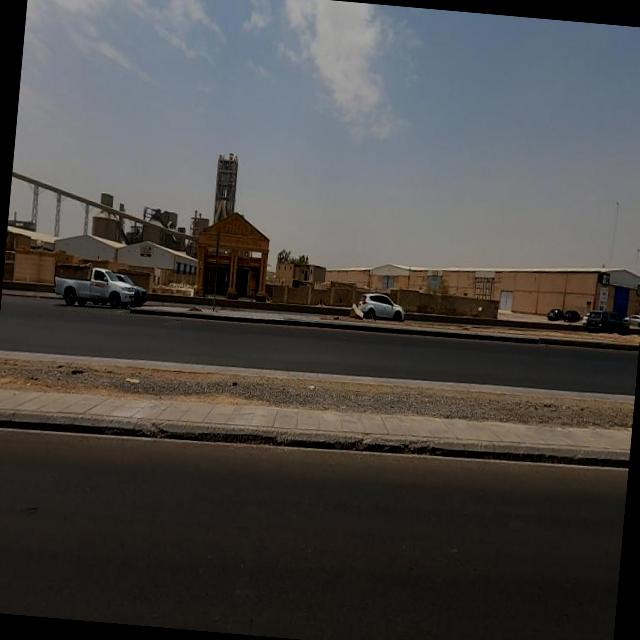debris: (88, 342, 182, 416), (276, 342, 348, 429)
